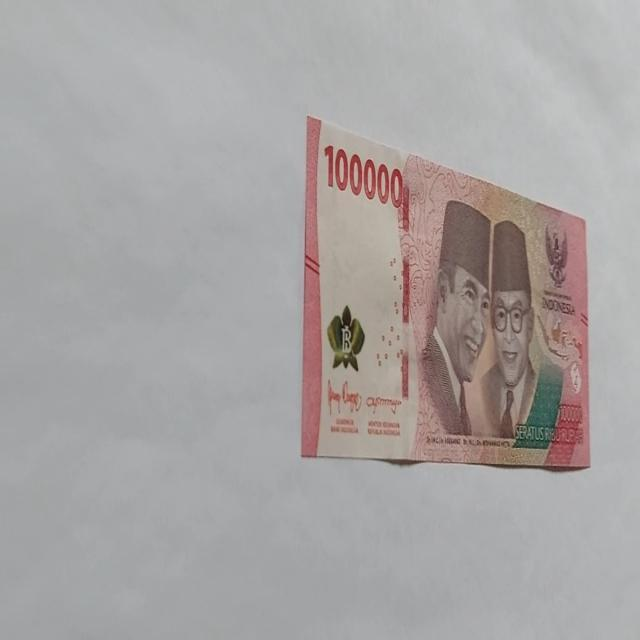seratus ribu rupiah: (300, 114, 592, 470)
